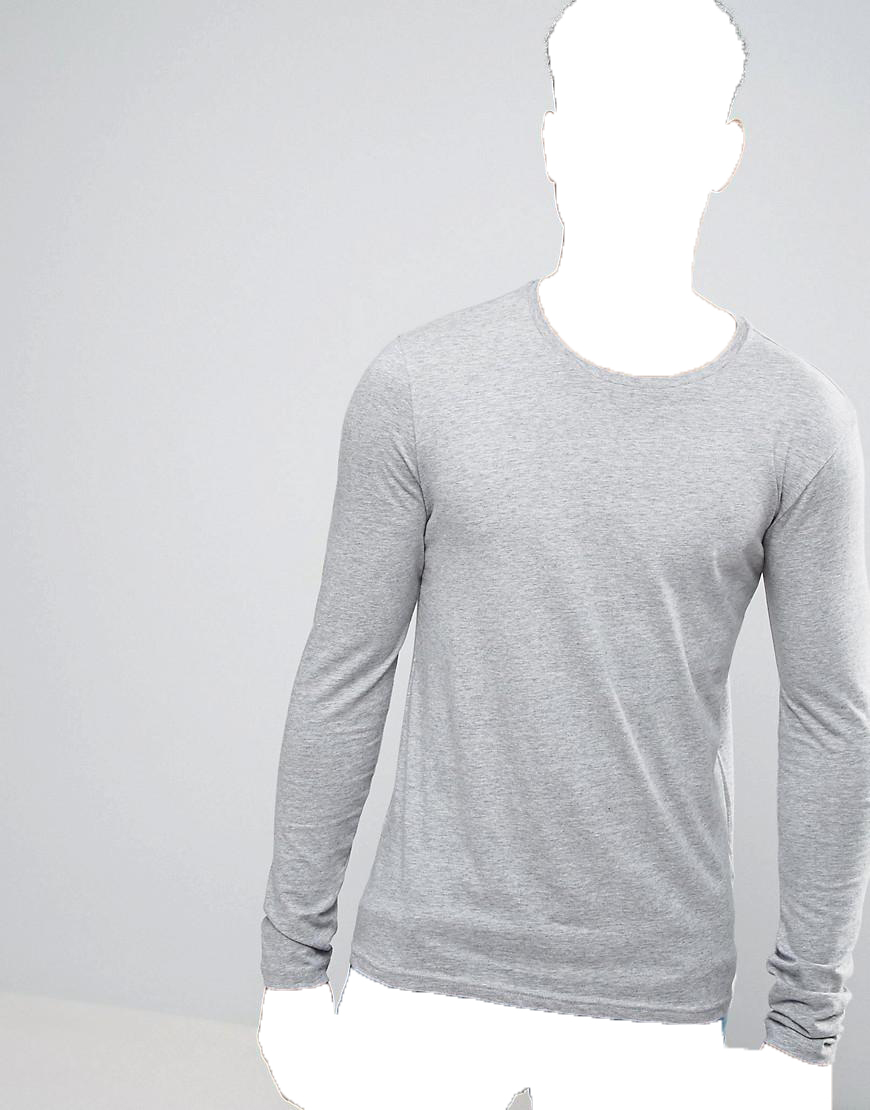teeshirt: (256, 278, 870, 1051)
